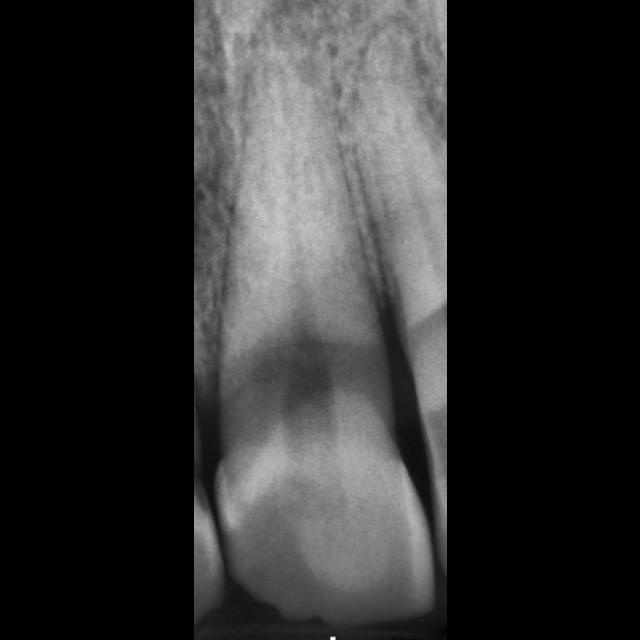tooth: (212, 13, 435, 632)
